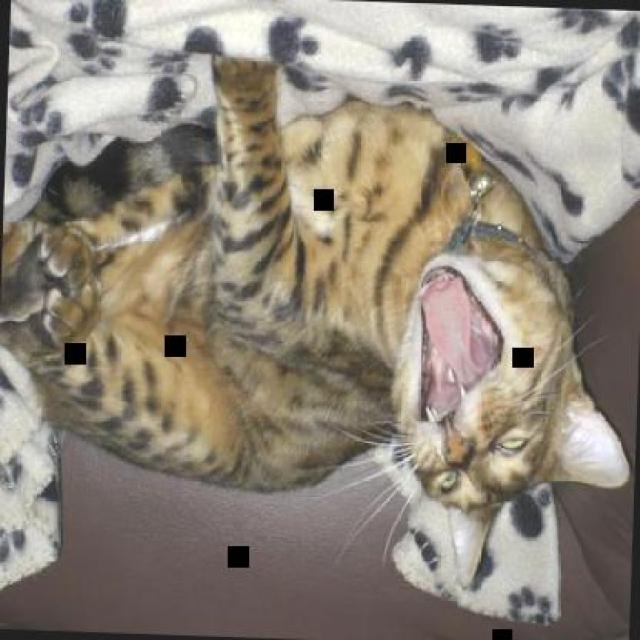cat: (0, 44, 638, 597)
